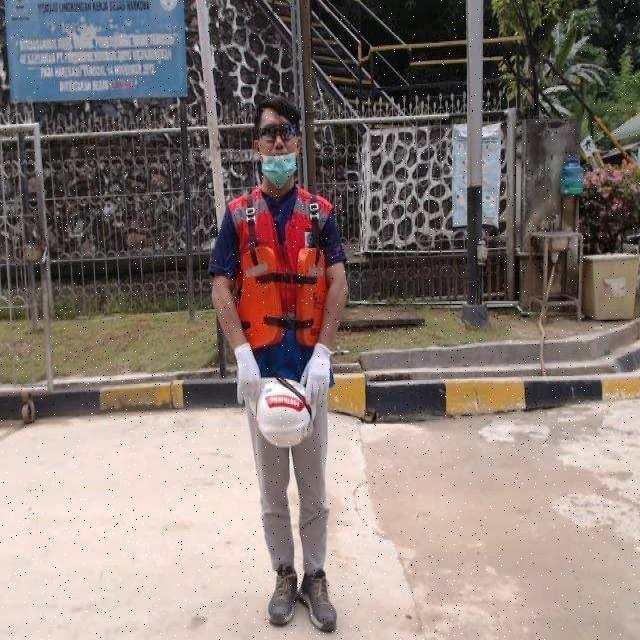Vest: (234, 196, 333, 352)
